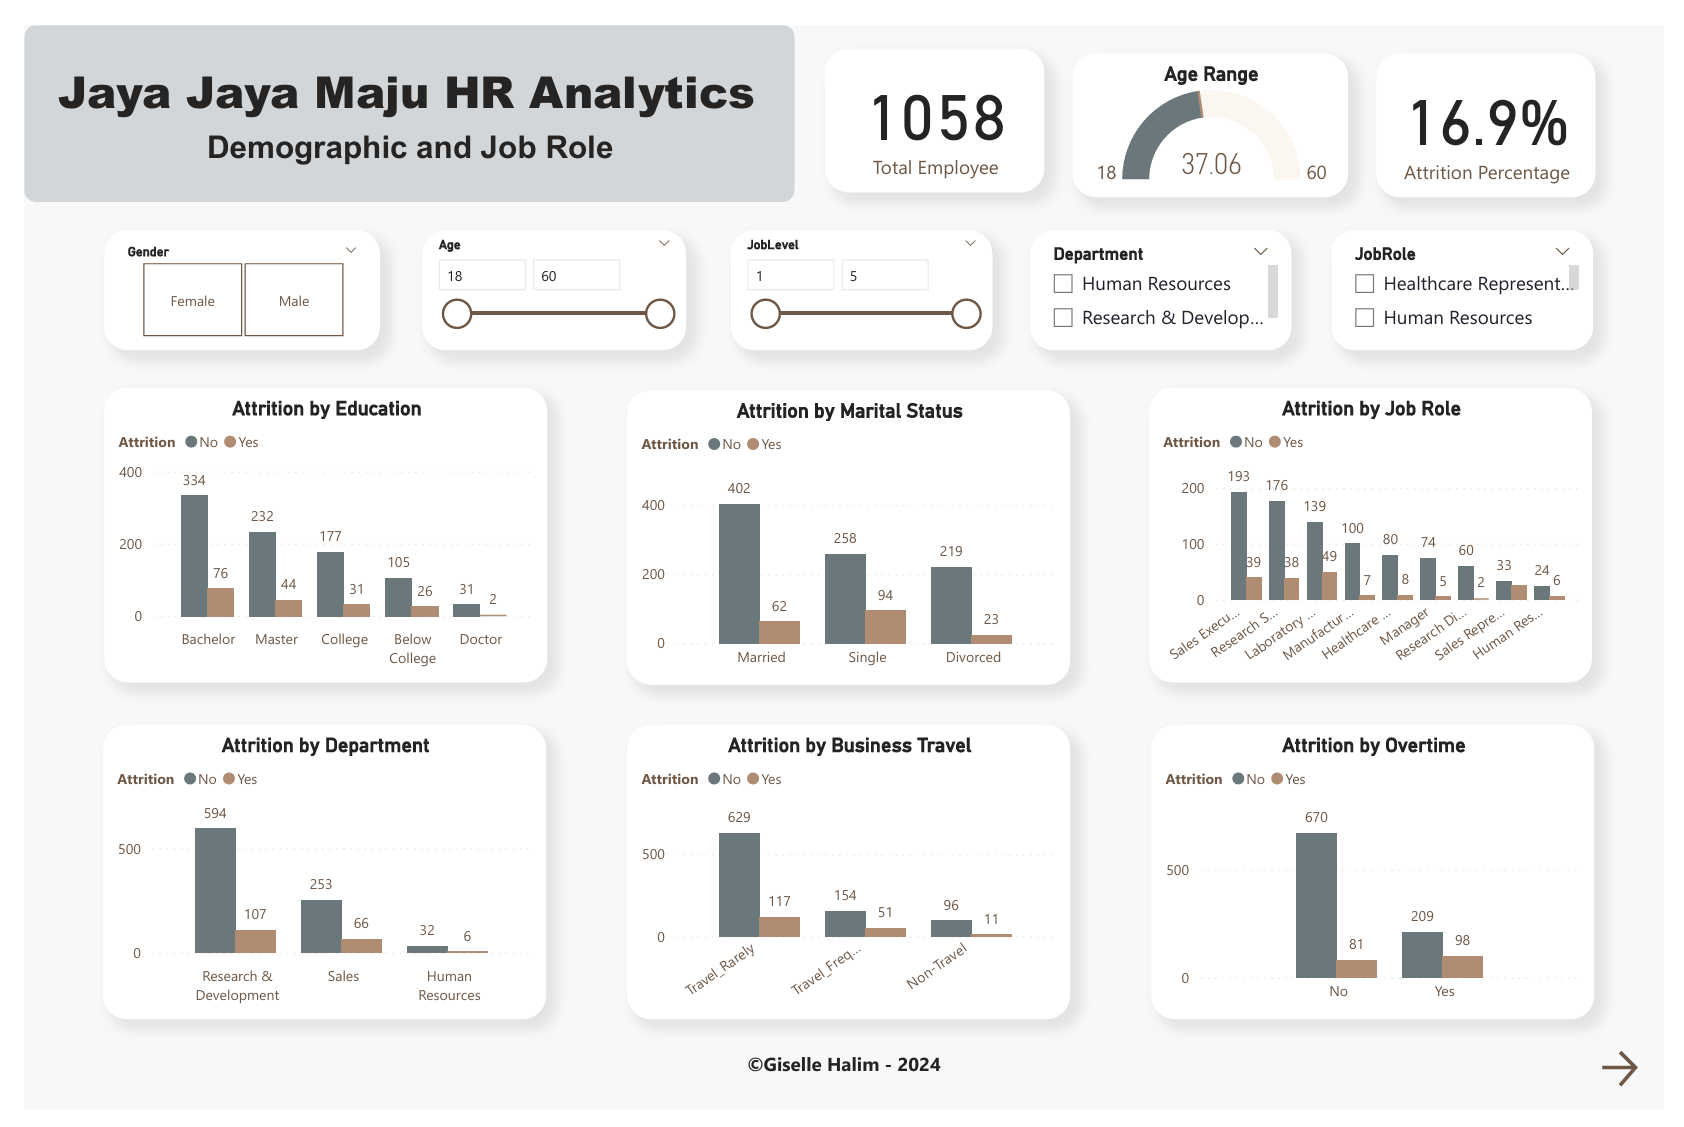

The dashboard page shown, as its layout file describes it:
{"tool":"powerbi","page":{"name":"HR Analytics [Demographic and Job Role]","canvas":[1392,920],"ordinal":0},"visuals":[{"type":"clusteredColumnChart","title":"Attrition by Business Travel","fields":{"Category":["employee_data_clean.BusinessTravel"],"Series":["employee_data_clean.Attrition"],"Y":["CountNonNull(employee_data_clean.EmployeeId)"]},"box":[512,594,376,250],"z":0},{"type":"clusteredColumnChart","title":"Attrition by Department","fields":{"Category":["employee_data_clean.Department"],"Series":["employee_data_clean.Attrition"],"Y":["CountNonNull(employee_data_clean.EmployeeId)"]},"box":[67.3,594,376,250],"z":1000},{"type":"clusteredColumnChart","title":"Attrition by Job Role","fields":{"Category":["employee_data_clean.JobRole"],"Series":["employee_data_clean.Attrition"],"Y":["CountNonNull(employee_data_clean.EmployeeId)"]},"box":[955.3,308,376,250],"z":2000},{"type":"card","fields":{"Values":["CountNonNull(employee_data_clean.EmployeeId)"]},"box":[680,20,186,122],"z":3000},{"type":"clusteredColumnChart","title":"Attrition by Overtime","fields":{"Category":["employee_data_clean.OverTime"],"Series":["employee_data_clean.Attrition"],"Y":["CountNonNull(employee_data_clean.EmployeeId)"]},"box":[957.3,594,376,250],"z":4000},{"type":"shape","box":[0,0,654,150],"z":5000},{"type":"textbox","box":[24,24,660,68],"z":6000},{"type":"actionButton","box":[1334,866,44,40],"z":7000},{"type":"card","fields":{"Values":["employee_data_clean.% Attrition"]},"box":[1148,24,186,122],"z":8000},{"type":"textbox","box":[150,84,366,58],"z":9000},{"type":"clusteredColumnChart","title":"Attrition by Education","fields":{"Category":["employee_data_clean.Education"],"Series":["employee_data_clean.Attrition"],"Y":["CountNonNull(employee_data_clean.EmployeeId)"]},"box":[68,308,376,250],"z":10000},{"type":"clusteredColumnChart","title":"Attrition by Marital Status","fields":{"Category":["employee_data_clean.MaritalStatus"],"Series":["employee_data_clean.Attrition"],"Y":["CountNonNull(employee_data_clean.EmployeeId)"]},"box":[512,310,376,250],"z":11000},{"type":"slicer","fields":{"Values":["employee_data_clean.Gender"]},"box":[68,174,234,102],"z":12000},{"type":"gauge","title":"Age Range","fields":{"Y":["Avg(employee_data_clean.Age)1"],"MinValue":["Min(employee_data_clean.Age)"],"MaxValue":["Max(employee_data_clean.Age)"],"TargetValue":["Avg(employee_data_clean.Age)1"]},"box":[890,24,234,122],"z":13000},{"type":"slicer","fields":{"Values":["employee_data_clean.JobLevel"]},"box":[600,174,222,102],"z":14000},{"type":"slicer","fields":{"Values":["employee_data_clean.Age"]},"box":[338,174,224,102],"z":15000},{"type":"slicer","fields":{"Values":["employee_data_clean.Department"]},"box":[854,174,222,102],"z":16000},{"type":"slicer","fields":{"Values":["employee_data_clean.JobRole"]},"box":[1110,174,222,102],"z":17000},{"type":"textbox","box":[596,866,200,40],"z":18000}]}

Visuals, with their boxes in screenshot pixels (x1, y1, x2, y2), scaled from the page's 1392x920 canvas onto the 1684x1127 screenshot:
"Attrition by Business Travel" clusteredColumnChart: (619, 728, 1074, 1034)
"Attrition by Department" clusteredColumnChart: (81, 728, 536, 1034)
"Attrition by Job Role" clusteredColumnChart: (1156, 377, 1611, 684)
card - CountNonNull(employee_data_clean.EmployeeId): (823, 24, 1048, 174)
"Attrition by Overtime" clusteredColumnChart: (1158, 728, 1613, 1034)
shape: (0, 0, 791, 184)
textbox: (29, 29, 827, 113)
actionButton: (1614, 1061, 1667, 1110)
card - employee_data_clean.% Attrition: (1389, 29, 1614, 179)
textbox: (181, 103, 624, 174)
"Attrition by Education" clusteredColumnChart: (82, 377, 537, 684)
"Attrition by Marital Status" clusteredColumnChart: (619, 380, 1074, 686)
slicer - employee_data_clean.Gender: (82, 213, 365, 338)
"Age Range" gauge: (1077, 29, 1360, 179)
slicer - employee_data_clean.JobLevel: (726, 213, 994, 338)
slicer - employee_data_clean.Age: (409, 213, 680, 338)
slicer - employee_data_clean.Department: (1033, 213, 1302, 338)
slicer - employee_data_clean.JobRole: (1343, 213, 1611, 338)
textbox: (721, 1061, 963, 1110)
